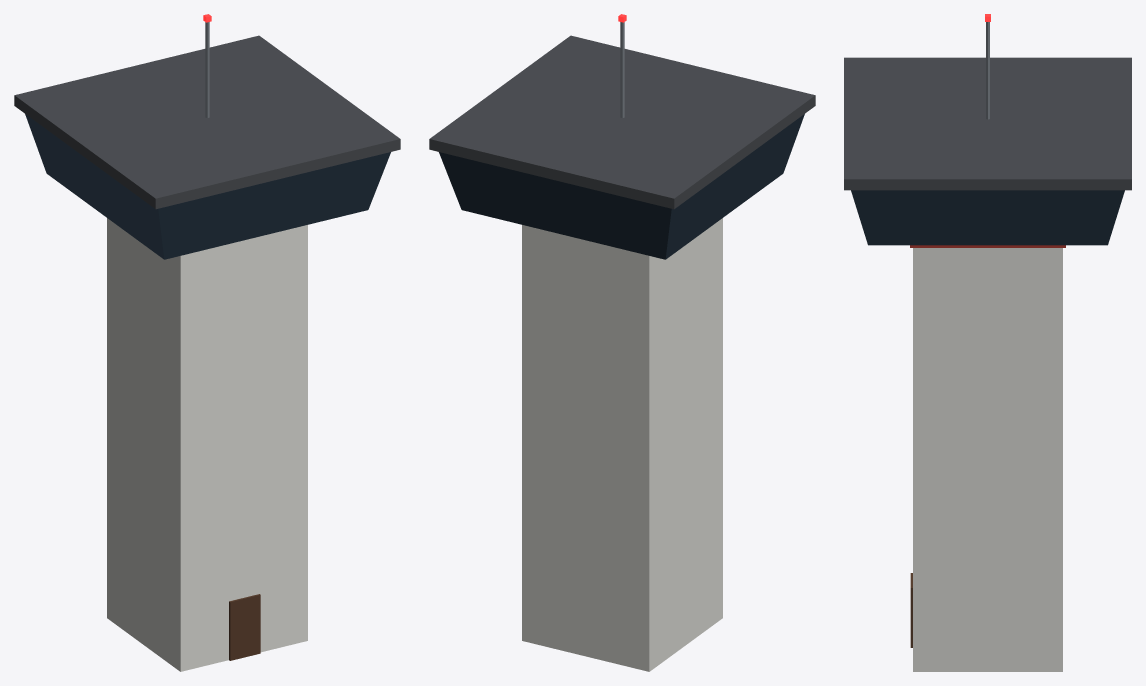
Rendered from control_tower.glb.
3 views of the same model, side by side, from view 1: azimuth 30°, elevation 25°; view 2: azimuth 150°, elevation 25°; view 3: azimuth 270°, elevation 25° (orthographic).
Visible parts, largest first — view 1: control_tower_Body; view 2: control_tower_Body; view 3: control_tower_Body.
Part boxes in pixels (box(x1,y1,x2,y2)): control_tower_Body: box(14, 14, 400, 671); control_tower_Body: box(429, 14, 815, 671); control_tower_Body: box(844, 14, 1131, 671).
Size of the model in its own units: 9.6 by 23 by 9.6.
